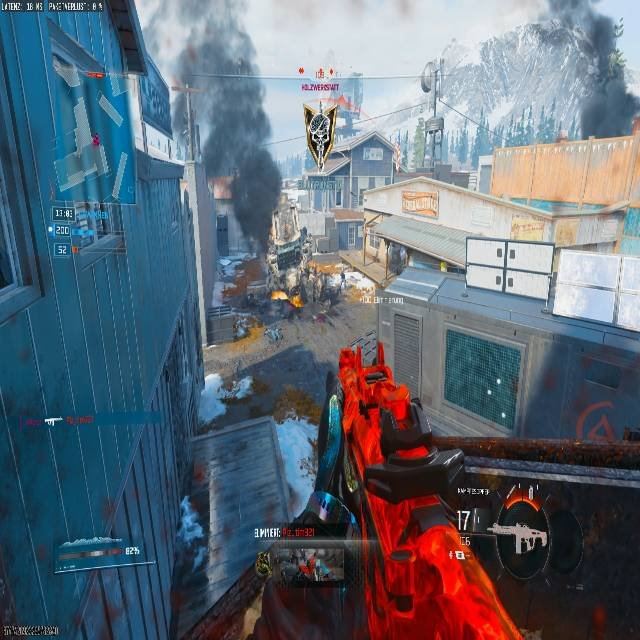head: (299, 225, 307, 236)
player: (297, 225, 313, 274)
